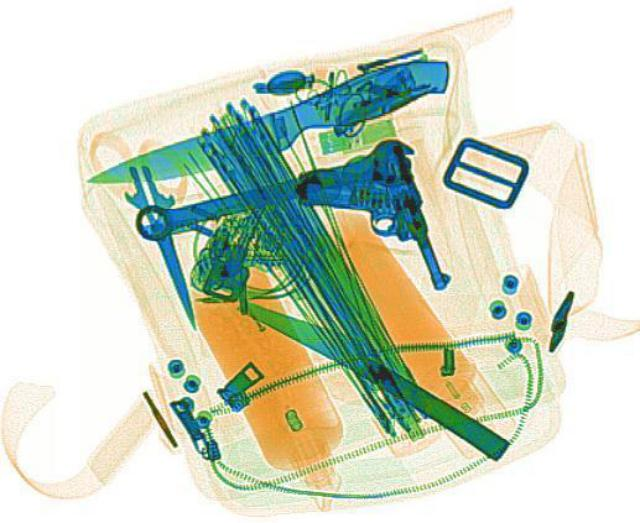Gun: (282, 134, 452, 303)
Knife: (76, 48, 462, 204), (230, 283, 524, 460), (112, 159, 218, 334)
Wrench: (122, 131, 424, 248)
